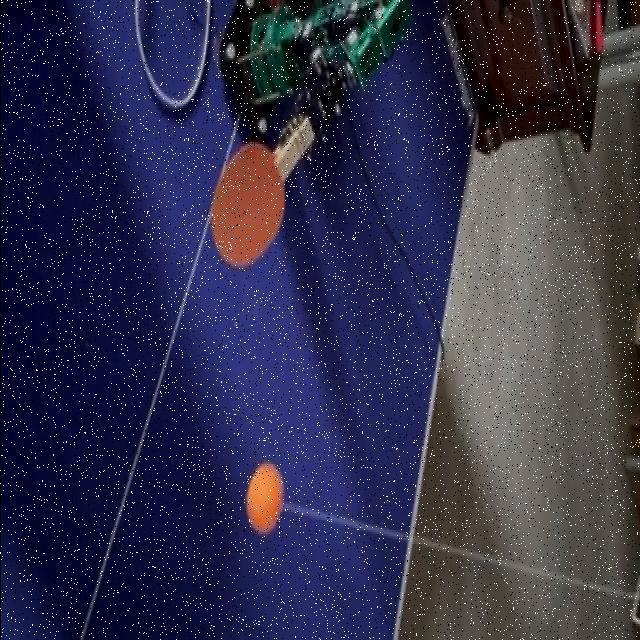ping-pong-ball: (245, 464, 285, 532)
